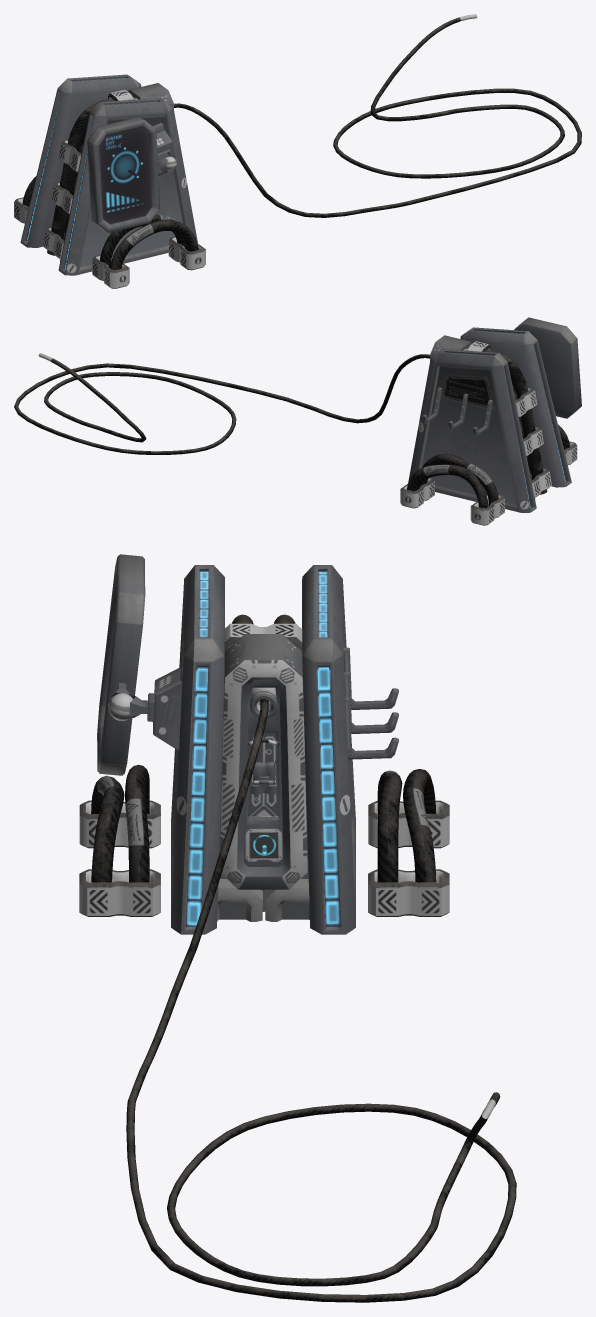
3 views of the same model, one above another, from view 1: azimuth 30°, elevation 25°; view 2: azimuth 150°, elevation 25°; view 3: azimuth 270°, elevation 25° (orthographic). The views are drawn at different scales.
Visible parts, largest first — view 1: body_low, pivotscreen_low, wireport_low; view 2: body_low, pivotscreen_low, wireport_low; view 3: body_low, wireport_low, pivotscreen_low.
Part boxes in pixels (left/top/right/bottom): body_low: left=20, top=74, right=198, bottom=275; pivotscreen_low: left=14, top=89, right=205, bottom=288; wireport_low: left=128, top=14, right=581, bottom=217; body_low: left=407, top=327, right=571, bottom=512; pivotscreen_low: left=400, top=317, right=581, bottom=525; wireport_low: left=14, top=335, right=472, bottom=454; body_low: left=91, top=565, right=436, bottom=934; wireport_low: left=126, top=634, right=516, bottom=1302; pivotscreen_low: left=79, top=554, right=449, bottom=921.
Size of the model in its own units: 281 by 79.54 by 106.
3 materials, 3 textured.
